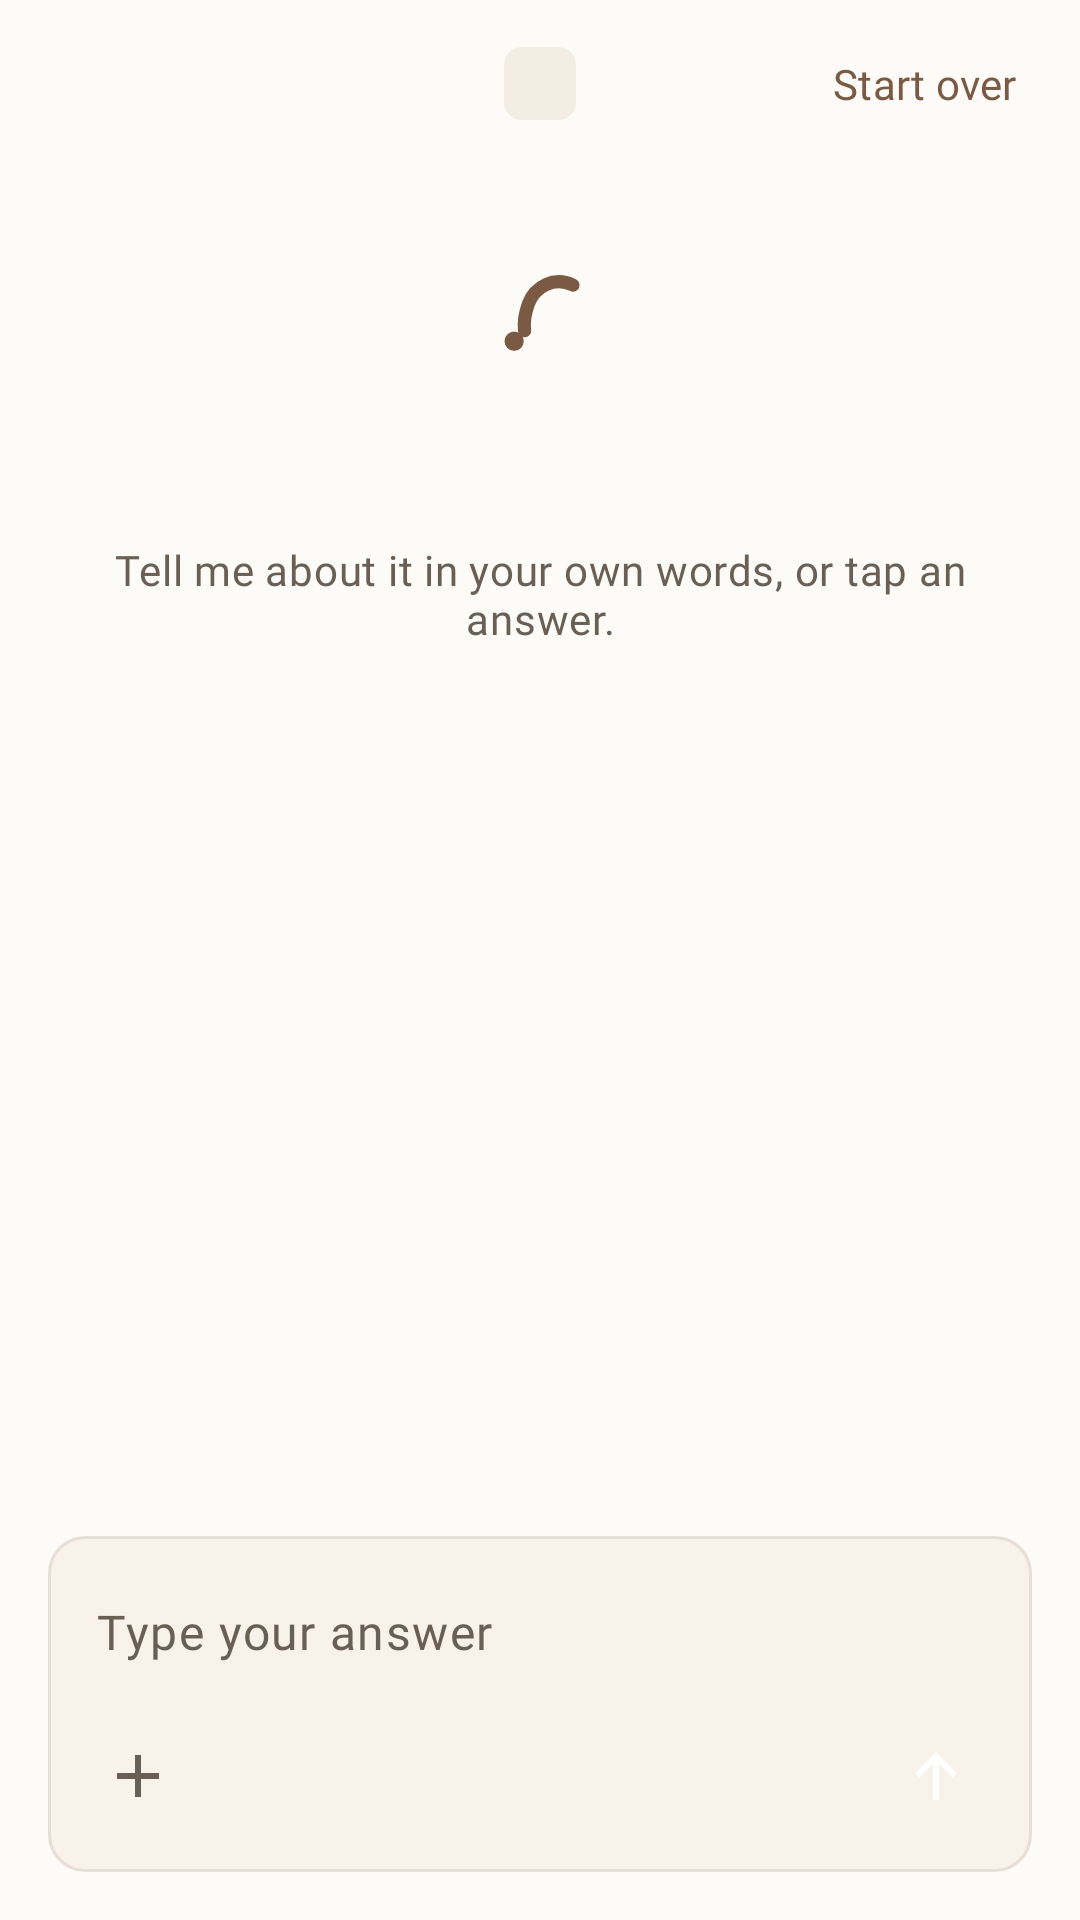

Where icons sit on this 1080 × 1920 app screen, as (x1, y1, x2, y2):
Show the answer choices: (117, 1755, 159, 1797)
